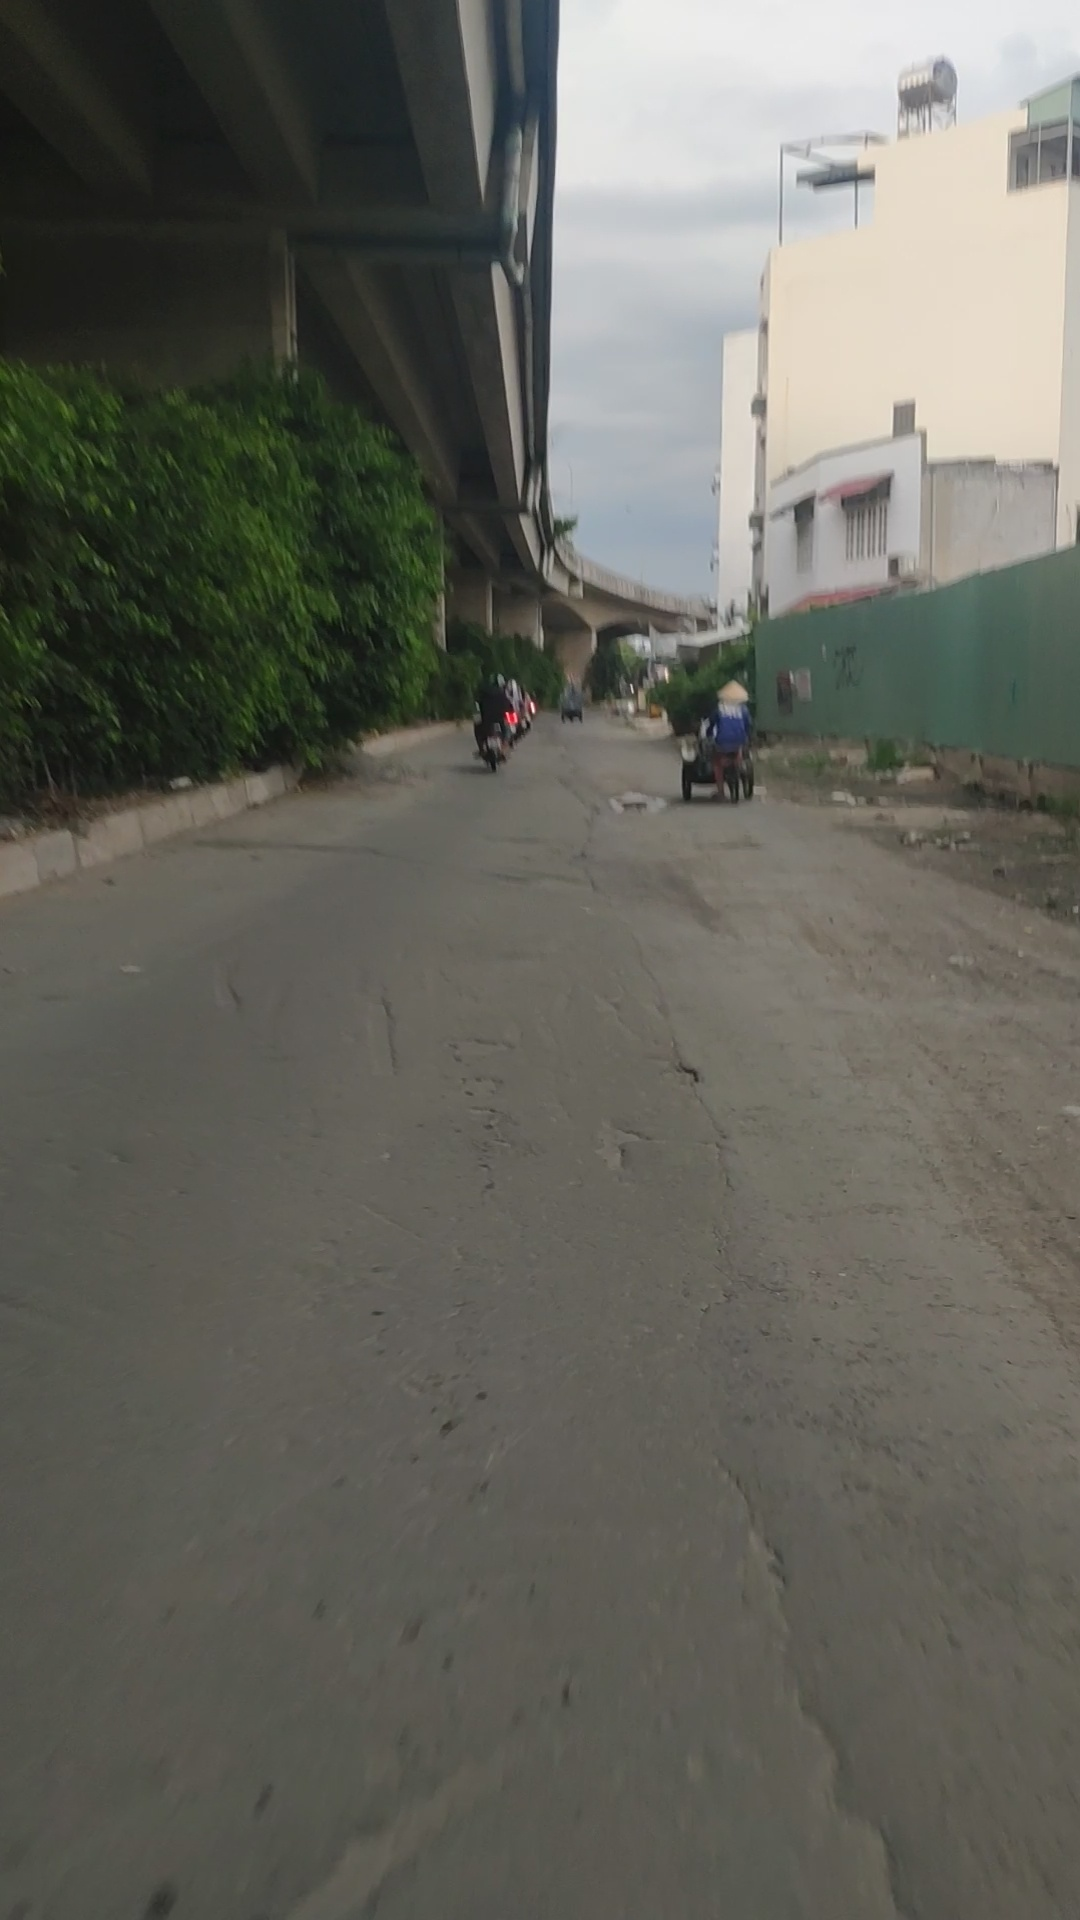hole: (458, 1104, 520, 1205), (440, 1033, 520, 1060), (605, 789, 669, 820), (661, 1058, 709, 1091), (452, 1073, 510, 1098)
